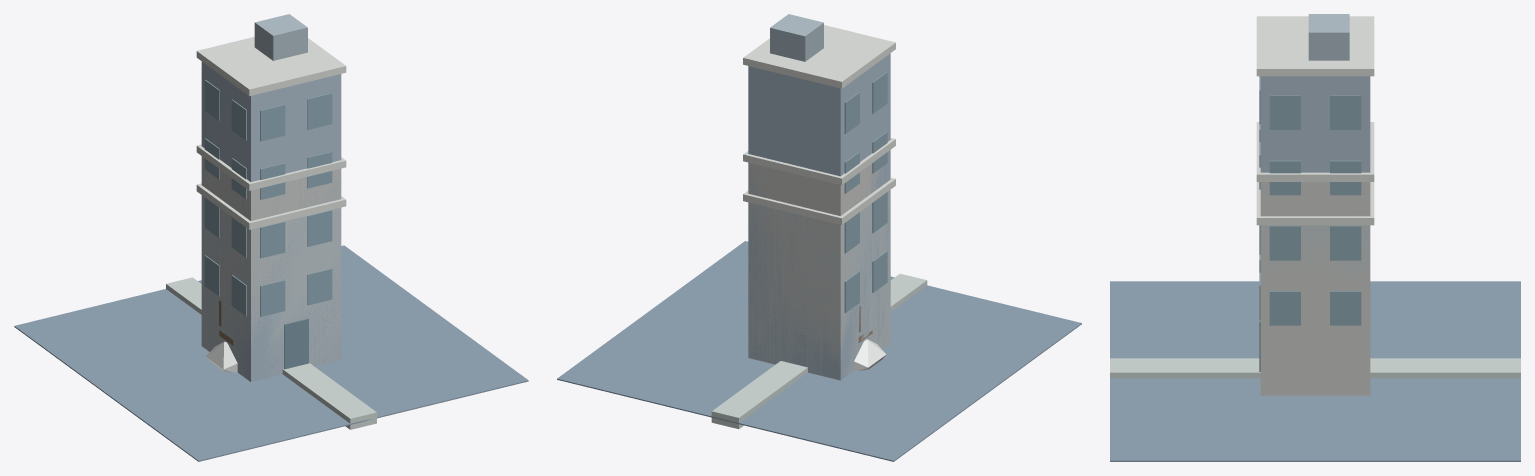
The model's file is scenery-kit.glb.
3 views of the same model, side by side, from view 1: azimuth 30°, elevation 25°; view 2: azimuth 150°, elevation 25°; view 3: azimuth 270°, elevation 25° (orthographic). The views are drawn at different scales.
Parts seen in each view (by area): view 1: road-tile, building-tall, building-low, building-mid, sidewalk-tile, cloud-0; view 2: road-tile, building-tall, building-mid, building-low, sidewalk-tile, cloud-0; view 3: road-tile, building-mid, building-tall, building-low, sidewalk-tile.
Part boxes in pixels (bbox=[...]): road-tile: bbox=[14, 245, 528, 461]; building-tall: bbox=[196, 14, 346, 381]; building-low: bbox=[196, 183, 346, 378]; building-mid: bbox=[196, 144, 346, 373]; sidewalk-tile: bbox=[166, 277, 376, 429]; cloud-0: bbox=[206, 341, 237, 372]; road-tile: bbox=[557, 241, 1081, 461]; building-tall: bbox=[743, 14, 895, 380]; building-mid: bbox=[743, 138, 895, 377]; building-low: bbox=[743, 178, 895, 375]; sidewalk-tile: bbox=[711, 273, 927, 429]; cloud-0: bbox=[854, 339, 886, 370]; road-tile: bbox=[1110, 281, 1520, 461]; building-mid: bbox=[1256, 122, 1374, 395]; building-tall: bbox=[1256, 14, 1374, 212]; building-low: bbox=[1256, 182, 1374, 371]; sidewalk-tile: bbox=[1110, 358, 1520, 378].
Size of the model in its own units: 6.2 by 6.06 by 6.
